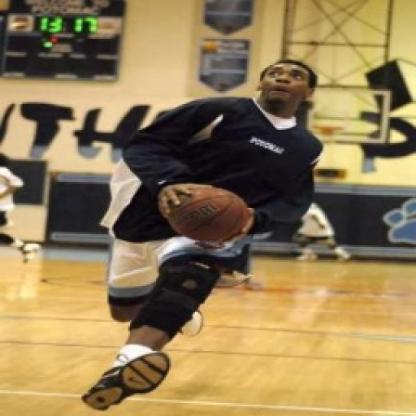basketball: (168, 180, 250, 246)
